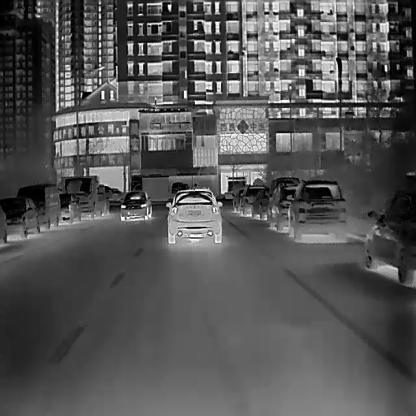car: (365, 196, 415, 283), (288, 178, 345, 240), (167, 187, 221, 242), (17, 183, 60, 228), (65, 176, 110, 218), (267, 182, 301, 233), (0, 198, 40, 237), (120, 190, 152, 221), (265, 176, 300, 202), (239, 185, 265, 216), (248, 186, 269, 220), (58, 192, 81, 223), (231, 187, 244, 212)
